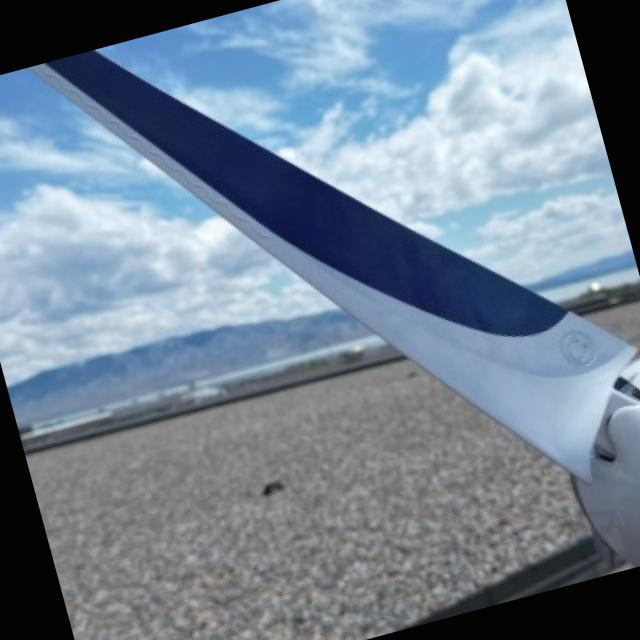healthy: (36, 50, 640, 564), (41, 362, 587, 640)
